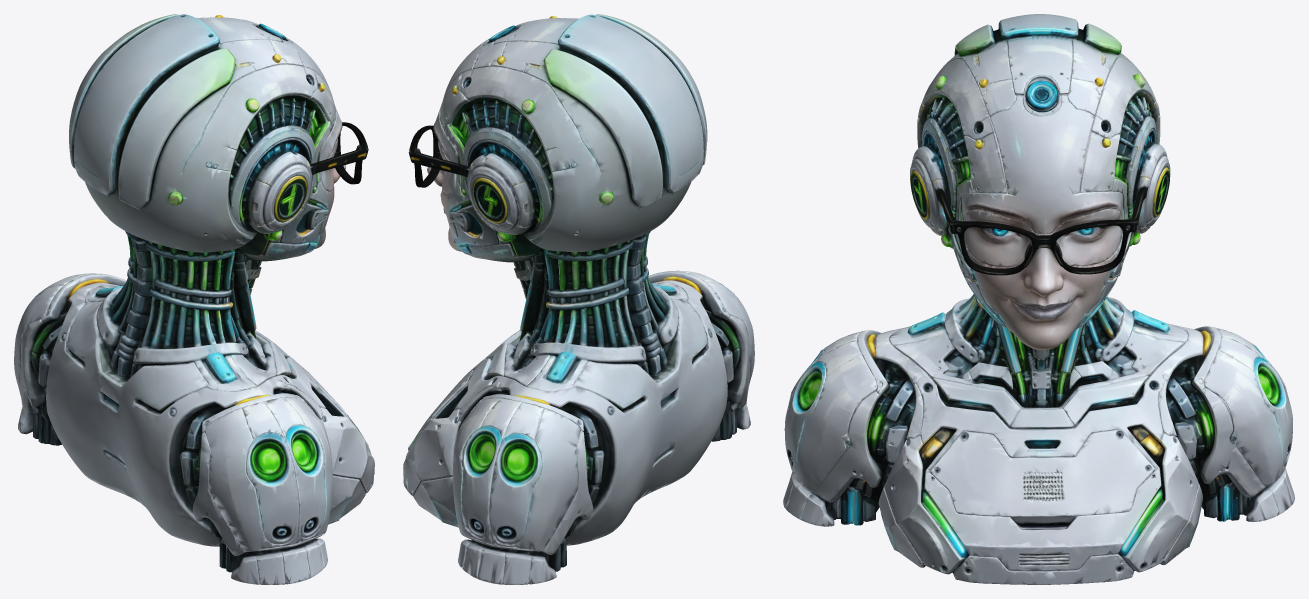
Rendered from robo.glb.
The picture shows the model from 3 angles, left to right: view 1: azimuth 30°, elevation 25°; view 2: azimuth 150°, elevation 25°; view 3: azimuth 270°, elevation 25°; orthographic projection. The views are drawn at different scales.
Visible parts, largest first — view 1: tripo_node_e09ba312-7e9b-465a-8083-b3c9eb93efa3; view 2: tripo_node_e09ba312-7e9b-465a-8083-b3c9eb93efa3; view 3: tripo_node_e09ba312-7e9b-465a-8083-b3c9eb93efa3.
Boxes of the visible parts, x1,y1,x2,y2 form: tripo_node_e09ba312-7e9b-465a-8083-b3c9eb93efa3: (14, 14, 374, 584); tripo_node_e09ba312-7e9b-465a-8083-b3c9eb93efa3: (403, 14, 754, 584); tripo_node_e09ba312-7e9b-465a-8083-b3c9eb93efa3: (783, 14, 1294, 584).
Size of the model in its own units: 0.5718 by 0.9793 by 0.9318.
Materials: 1 (1 with a texture image).
